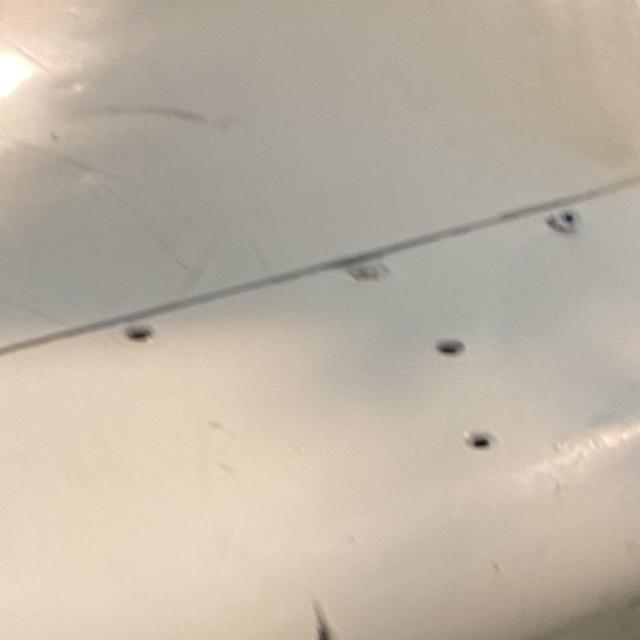Missing-head: (460, 427, 496, 449), (119, 320, 153, 340), (435, 335, 466, 354)
